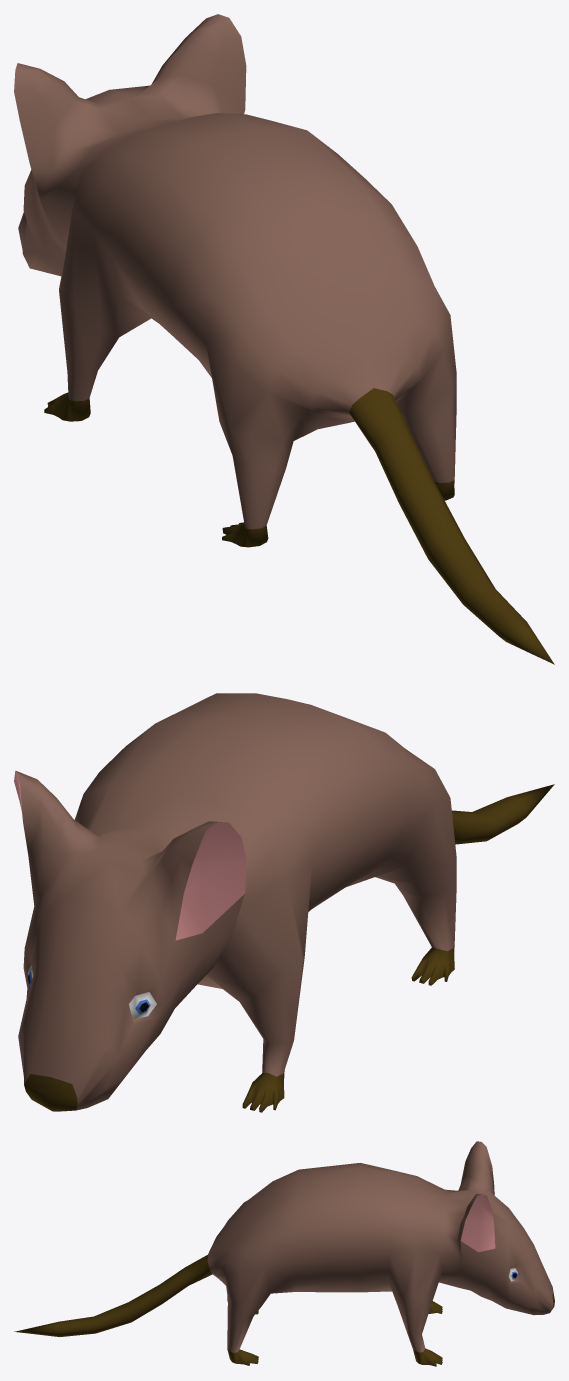
The picture shows the model from 3 angles, top to bottom: view 1: azimuth 30°, elevation 25°; view 2: azimuth 150°, elevation 25°; view 3: azimuth 270°, elevation 25°; orthographic projection. The views are drawn at different scales.
Parts seen in each view (by area): view 1: Rat3; view 2: Rat3; view 3: Rat3.
Part boxes in pixels (x1,y1,x2,y2): Rat3: [14, 14, 554, 664]; Rat3: [14, 693, 554, 1112]; Rat3: [14, 1141, 554, 1366].
Bounding box in the file's own units: 0.7185 × 0.8947 × 2.6.
